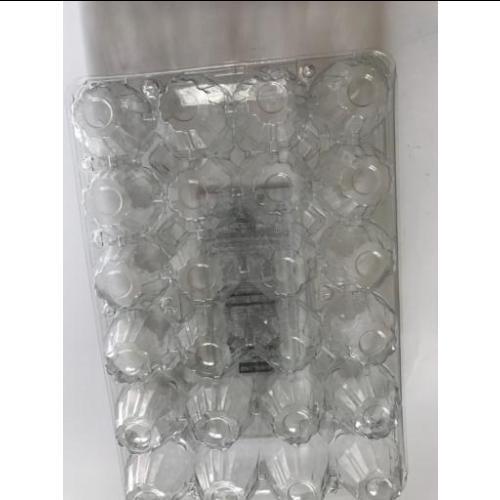plastic: (112, 55, 393, 500)
